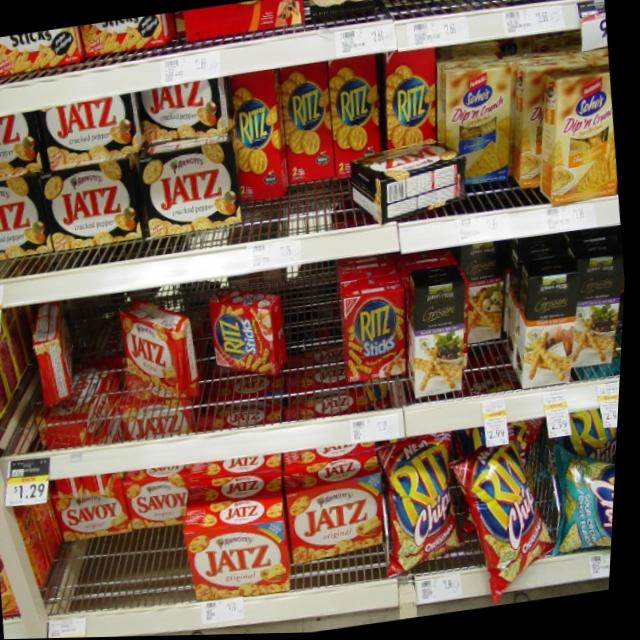q109: (133, 136, 242, 240), (42, 74, 149, 169), (51, 167, 155, 254), (141, 59, 236, 151), (0, 178, 61, 271), (0, 90, 46, 188)
